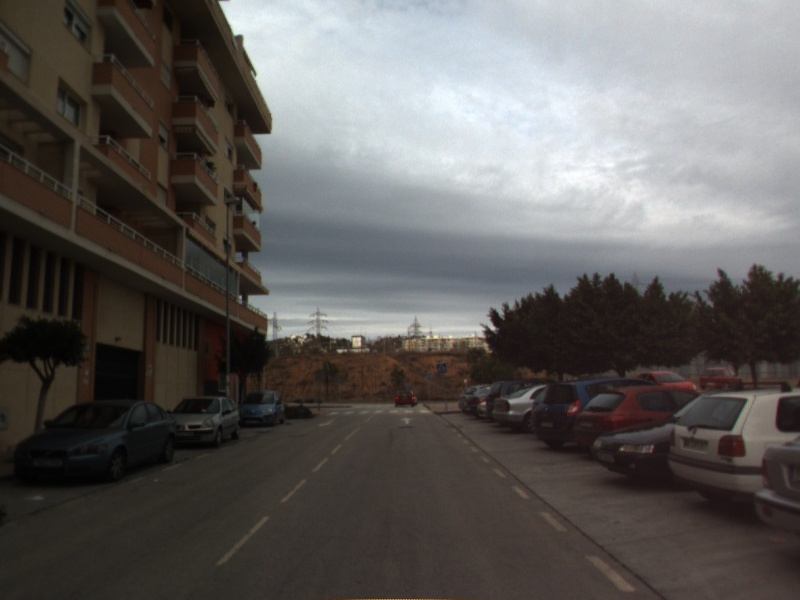STRAIGHT: (398, 415, 416, 426)
